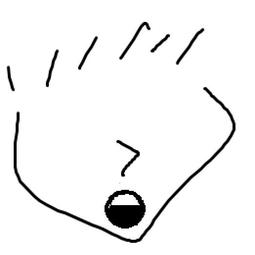open_mouth: (102, 189, 148, 229)
pointy_nose: (110, 135, 147, 181)
